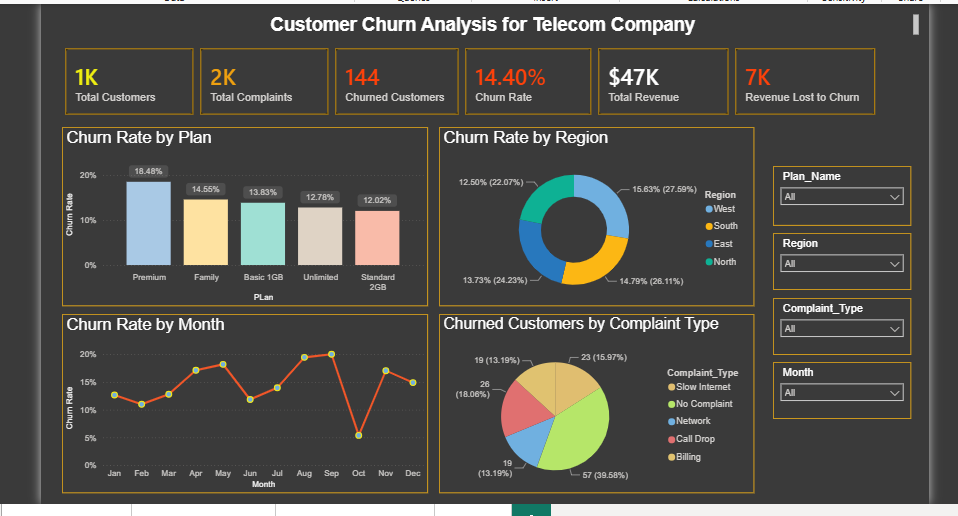

This screenshot's page, from the dashboard's own definition file:
{"tool":"powerbi","page":{"name":"Customer Churn","canvas":[1280,720],"ordinal":0},"visuals":[{"type":"cardVisual","fields":{"Data":["Measure.Churn Rate"]},"box":[606.2,59,191.5,105.1],"z":0},{"type":"cardVisual","fields":{"Data":["Measure.Revenue Lost to Churn"]},"box":[995,59,211.7,105.1],"z":1000},{"type":"cardVisual","fields":{"Data":["Measure.Total Revenue"]},"box":[797.8,59,197.3,105.1],"z":2000},{"type":"columnChart","title":"Churn Rate by Plan","fields":{"Category":["Plan_Dimension.Plan_Name"],"Y":["Measure.Churn Rate"]},"box":[30.2,177.1,527,257.8],"z":3000},{"type":"lineChart","fields":{"Category":["Time_Dimension.Year","Time_Dimension.Quarter","Time_Dimension.Month"],"Y":["Measure.Churn Rate"]},"box":[30.2,446.4,527,257.8],"z":4000},{"type":"donutChart","fields":{"Category":["Location_Dimension.Region"],"Y":["Measure.Churn Rate"]},"box":[573.1,177.1,453.6,257.8],"z":5000},{"type":"slicer","title":"Plan","fields":{"Values":["Plan_Dimension.Plan_Name"]},"box":[1054.1,233.3,199,86.3],"z":6000},{"type":"slicer","fields":{"Values":["Location_Dimension.Region"]},"box":[1054.1,329.8,199,82],"z":7000},{"type":"slicer","fields":{"Values":["Complaint_Dimension.Complaint_Type"]},"box":[1054.1,423.4,199,82],"z":8000},{"type":"cardVisual","fields":{"Data":["Measure.Churned Customers"]},"box":[419,59,187.3,105.4],"z":9000},{"type":"pieChart","title":"Churned Customers by Complaint Type","fields":{"Category":["Complaint_Dimension.Complaint_Type"],"Y":["Measure.Churned Customers"]},"box":[573.1,446.4,453.6,257.8],"z":10000},{"type":"textbox","box":[13.2,10.2,1255.6,39.5],"z":11000},{"type":"cardVisual","fields":{"Data":["Measure.Total Customers"]},"box":[30.2,59,194.4,105.1],"z":12000},{"type":"slicer","fields":{"Values":["Time_Dimension.Month"]},"box":[1054.1,515.5,199,82],"z":13000},{"type":"cardVisual","fields":{"Data":["Measure.Total Complaints"]},"box":[224.6,59,194.4,105.1],"z":14000}]}

Visuals, with their boxes on the page's 1280x720 design canvas (x1, y1, x2, y2). These are canvas units, not pixel positions in the 958x516 screenshot, which may show the page scaled, cropped or inside an application window:
cardVisual - Measure.Churn Rate: [left=606, top=59, right=798, bottom=164]
cardVisual - Measure.Revenue Lost to Churn: [left=995, top=59, right=1207, bottom=164]
cardVisual - Measure.Total Revenue: [left=798, top=59, right=995, bottom=164]
"Churn Rate by Plan" columnChart: [left=30, top=177, right=557, bottom=435]
lineChart - Time_Dimension.Year x Time_Dimension.Quarter: [left=30, top=446, right=557, bottom=704]
donutChart - Location_Dimension.Region x Measure.Churn Rate: [left=573, top=177, right=1027, bottom=435]
"Plan" slicer: [left=1054, top=233, right=1253, bottom=320]
slicer - Location_Dimension.Region: [left=1054, top=330, right=1253, bottom=412]
slicer - Complaint_Dimension.Complaint_Type: [left=1054, top=423, right=1253, bottom=505]
cardVisual - Measure.Churned Customers: [left=419, top=59, right=606, bottom=164]
"Churned Customers by Complaint Type" pieChart: [left=573, top=446, right=1027, bottom=704]
textbox: [left=13, top=10, right=1269, bottom=50]
cardVisual - Measure.Total Customers: [left=30, top=59, right=225, bottom=164]
slicer - Time_Dimension.Month: [left=1054, top=516, right=1253, bottom=598]
cardVisual - Measure.Total Complaints: [left=225, top=59, right=419, bottom=164]
